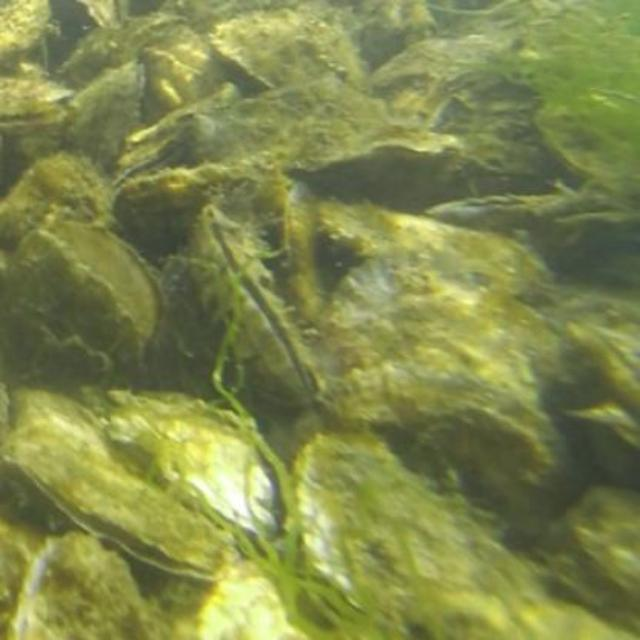Oyster-Closed: (9, 392, 237, 582), (317, 373, 565, 522), (296, 439, 507, 614), (319, 257, 571, 403), (108, 390, 277, 537), (319, 201, 546, 299), (0, 234, 142, 387), (113, 165, 291, 264), (0, 538, 159, 638), (50, 223, 167, 349), (214, 5, 372, 90), (59, 62, 150, 174), (0, 153, 104, 250), (287, 178, 326, 325)
Oyster-Open: (189, 204, 323, 405), (110, 113, 229, 185), (430, 186, 592, 226), (0, 95, 66, 134)
